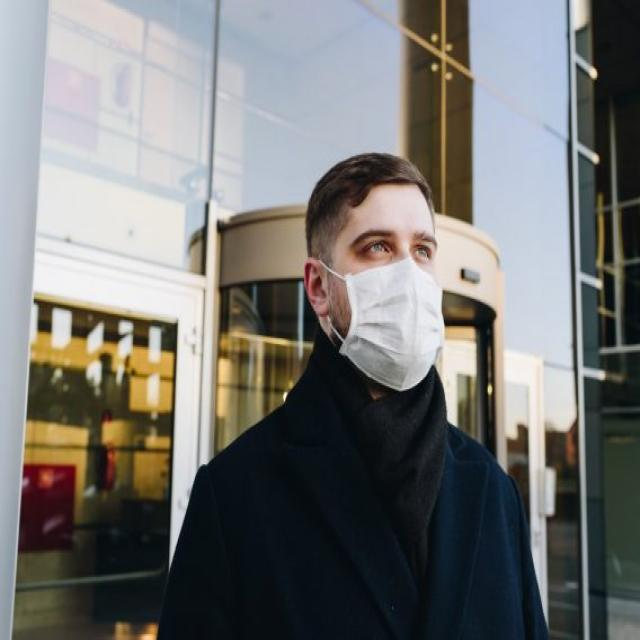1_mascarilla: (317, 256, 445, 392)
